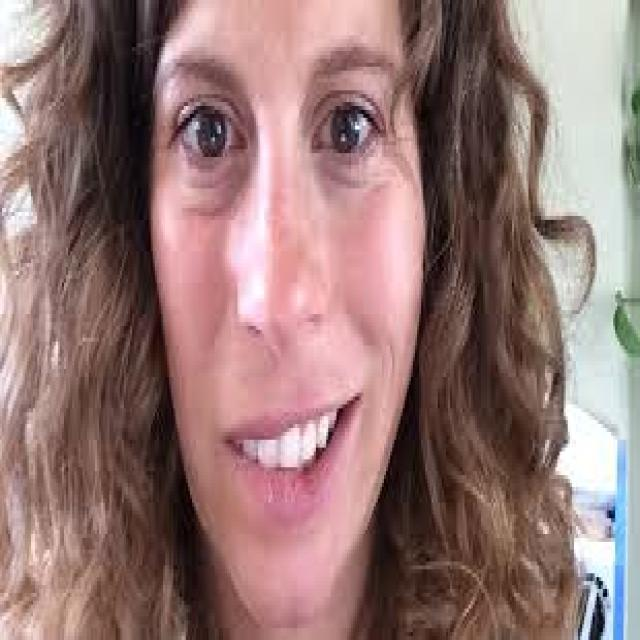stroke_face: (125, 0, 460, 616)
